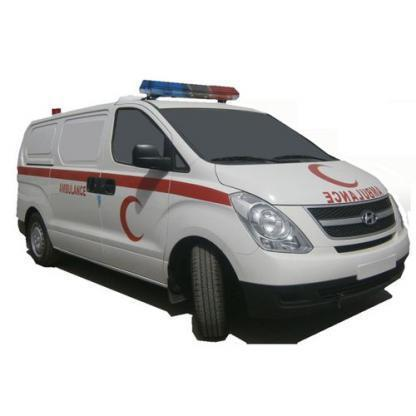Ambulance - v1 Ambulance last generate: (0, 66, 410, 349)
